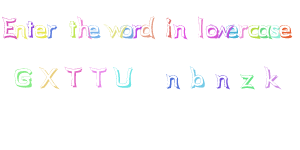E: (1, 13, 18, 44)
G: (9, 60, 36, 93)
T: (85, 63, 111, 92), (61, 63, 85, 90)
U: (110, 63, 137, 92)
X: (37, 63, 62, 92)
a: (256, 22, 272, 41)
b: (185, 62, 210, 95)
c: (245, 21, 260, 40)
d: (139, 11, 156, 40)
e: (86, 20, 102, 42), (277, 21, 294, 39), (34, 21, 47, 43), (225, 21, 240, 40)
h: (75, 11, 91, 41)
i: (162, 16, 176, 42)
k: (258, 61, 286, 93)
l: (195, 12, 207, 41)
n: (209, 66, 235, 96), (159, 70, 185, 94), (173, 22, 191, 40), (14, 23, 28, 42)
o: (205, 21, 220, 41), (119, 23, 134, 40)
r: (44, 21, 59, 42), (130, 21, 143, 43), (237, 20, 249, 40)
s: (268, 21, 281, 41)
t: (25, 16, 36, 43), (67, 17, 77, 40)
w: (104, 22, 127, 41), (214, 21, 231, 41)
z: (234, 66, 258, 95)
